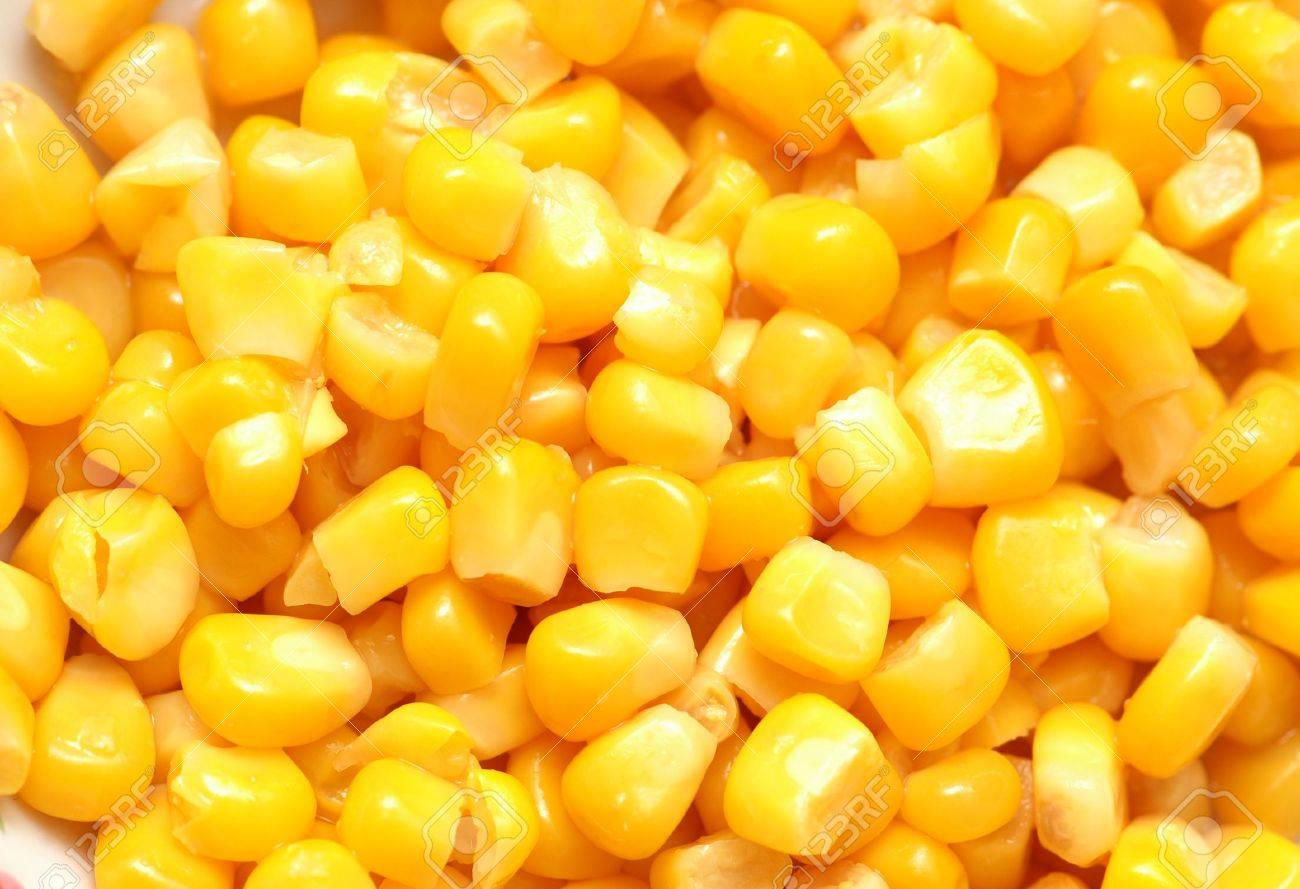corn: (892, 333, 1066, 518), (185, 596, 377, 759), (729, 688, 892, 870), (562, 707, 718, 866), (1118, 612, 1256, 785), (420, 273, 548, 452), (736, 197, 899, 332), (1059, 274, 1201, 416), (566, 462, 711, 599)
